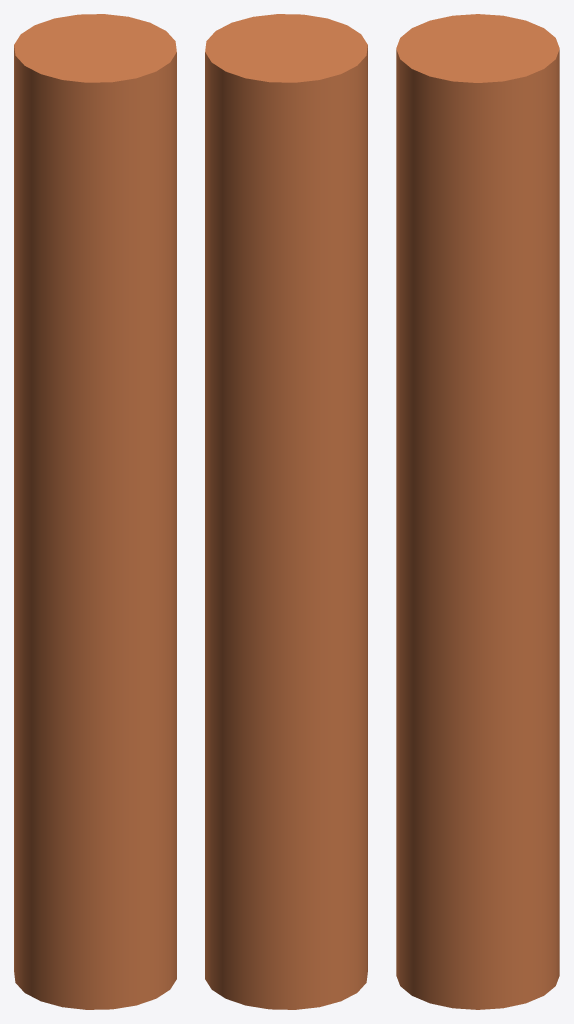
File: pipe_copper.obj
The picture shows the model from 3 angles, left to right: view 1: azimuth 30°, elevation 25°; view 2: azimuth 150°, elevation 25°; view 3: azimuth 270°, elevation 25°; orthographic projection.
Visible parts, largest first — view 1: pipe_copper; view 2: pipe_copper; view 3: pipe_copper.
Part boxes in pixels (x1,y1,x2,y2): pipe_copper: [14, 14, 176, 1009]; pipe_copper: [205, 14, 367, 1009]; pipe_copper: [396, 14, 559, 1009].
Bounding box in the file's own units: 0.48 × 3 × 0.48.
